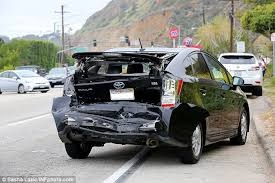Smashed: (55, 51, 182, 141)
